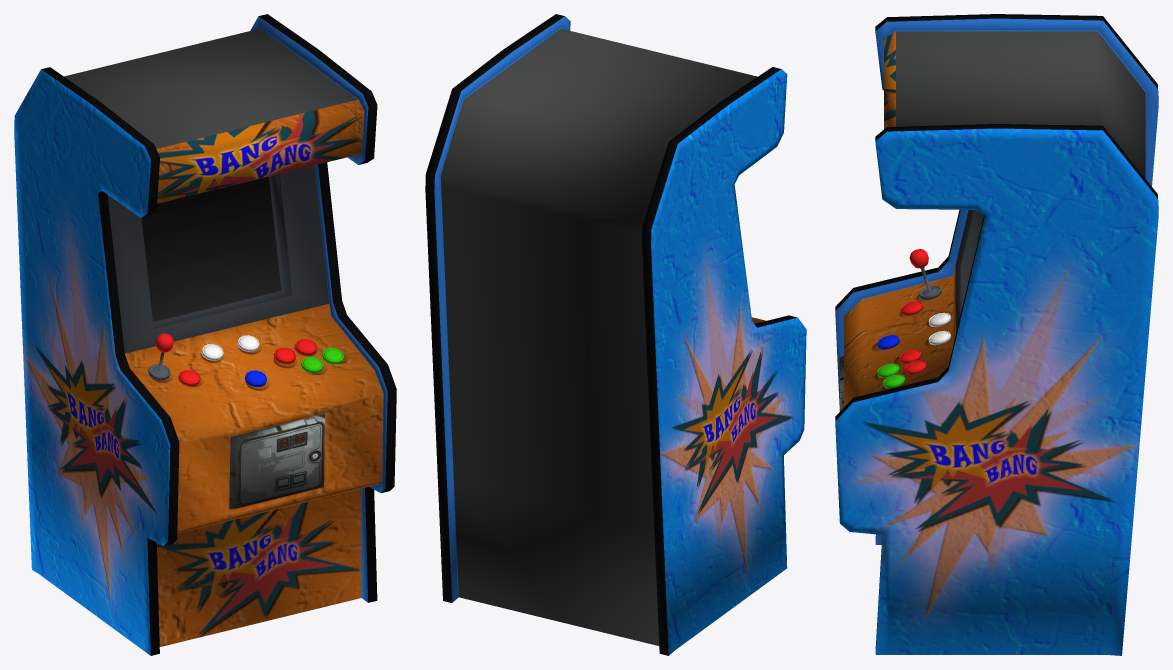
Rendered from Arcade.fbx.
3 views of the same model, side by side, from view 1: azimuth 30°, elevation 25°; view 2: azimuth 150°, elevation 25°; view 3: azimuth 270°, elevation 25° (orthographic). The views are drawn at different scales.
Visible parts, largest first — view 1: Arcade; view 2: Arcade; view 3: Arcade.
Boxes of the visible parts, bbox=[...] form: Arcade: bbox=[14, 14, 396, 655]; Arcade: bbox=[425, 14, 806, 655]; Arcade: bbox=[835, 14, 1158, 655].
Bounding box in the file's own units: 3.34 × 7.17 × 3.99.
